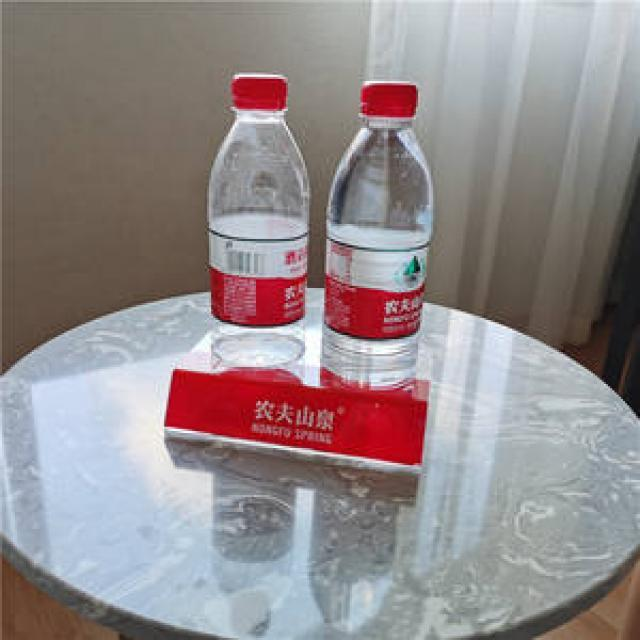plastic_bottle: (320, 81, 433, 391), (207, 74, 314, 384)
